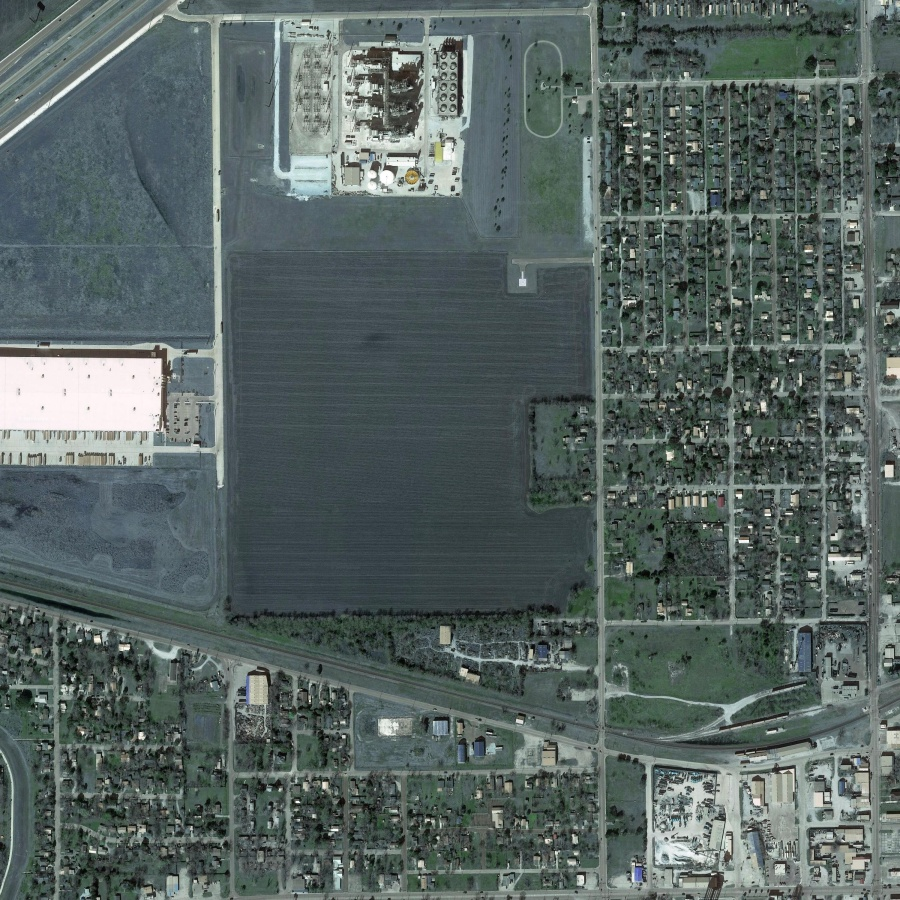PowerPlant: (276, 14, 470, 203)
